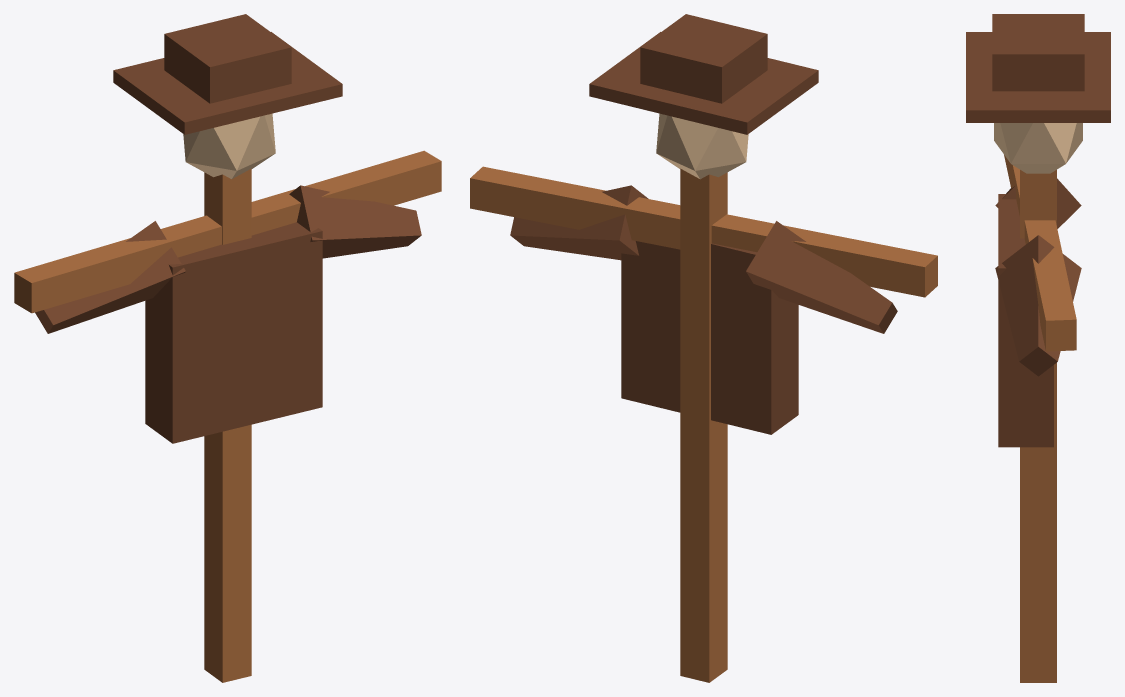
The model's file is prop.farm-scarecrow.lod1.glb.
3 views of the same model, side by side, from view 1: azimuth 30°, elevation 25°; view 2: azimuth 150°, elevation 25°; view 3: azimuth 270°, elevation 25° (orthographic).
Visible parts, largest first — view 1: body; view 2: body; view 3: body.
Boxes of the visible parts, <box> form: body: <box>14,14,441,682</box>; body: <box>470,14,937,682</box>; body: <box>966,14,1110,682</box>.
Bounding box in the file's own units: 1.65 × 2.3 × 0.47.
